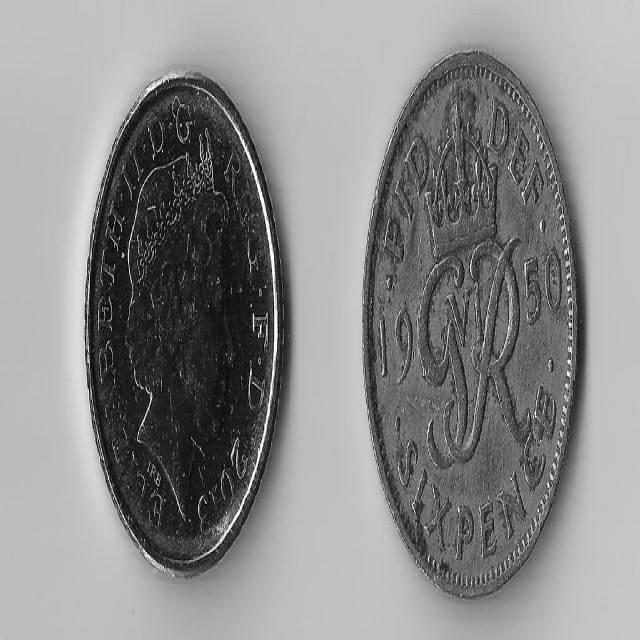Coin: (363, 48, 580, 602), (85, 62, 285, 581)
